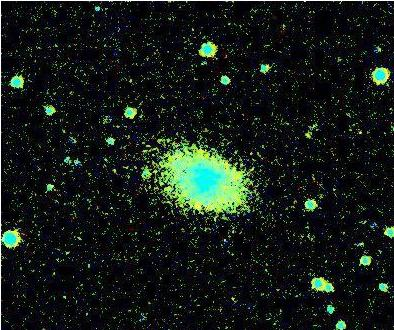star: (292, 119, 322, 149)
